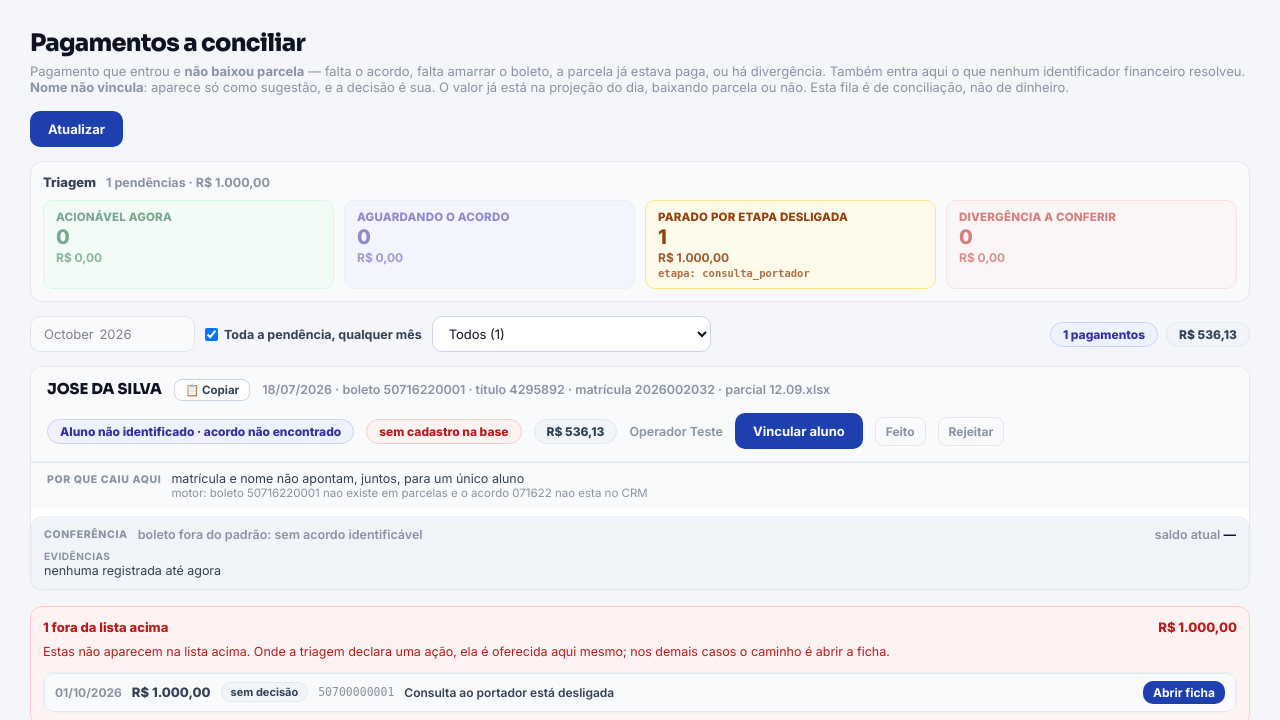
faixa de triagem › recorte sem resultado NAO diz 'tudo baixado'
The width and height of the screenshot is (1280, 720).
Click the button titled "etapa que a gestão desligou" at (753, 217), box [645, 200, 936, 289]
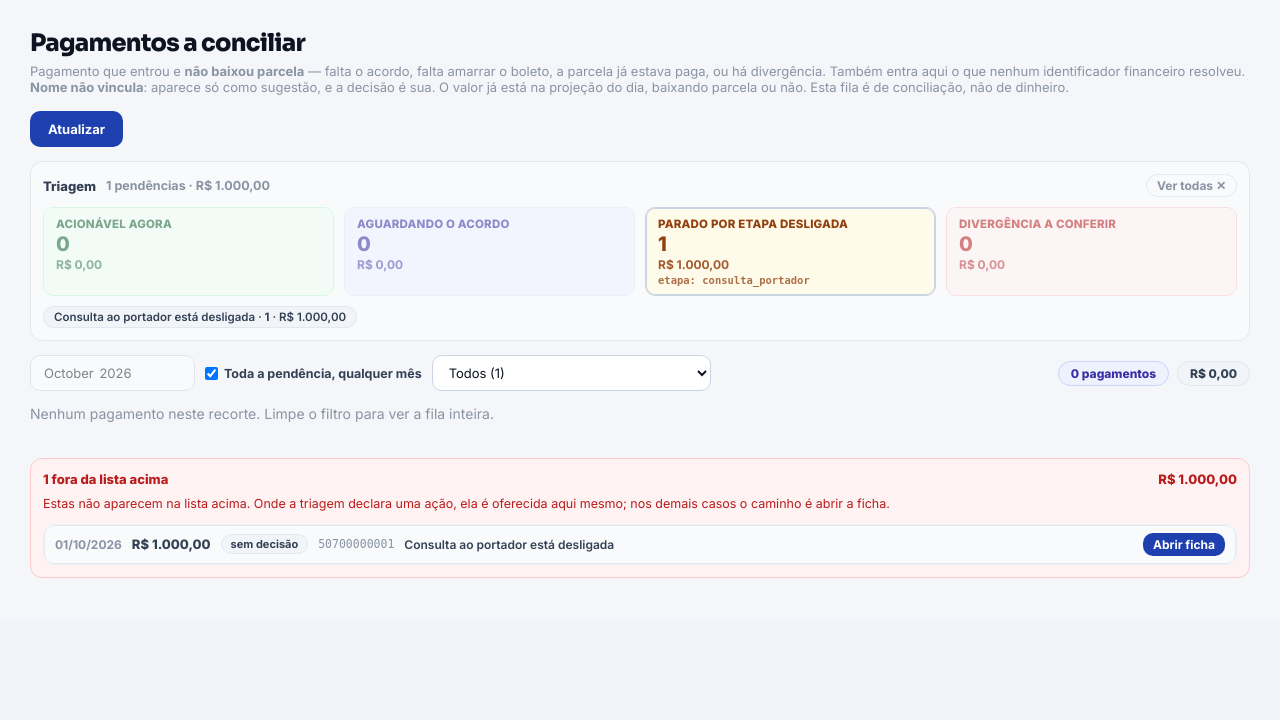
Check: the text "Nenhum pagamento neste recorte" is shown, box [30, 405, 494, 422]
